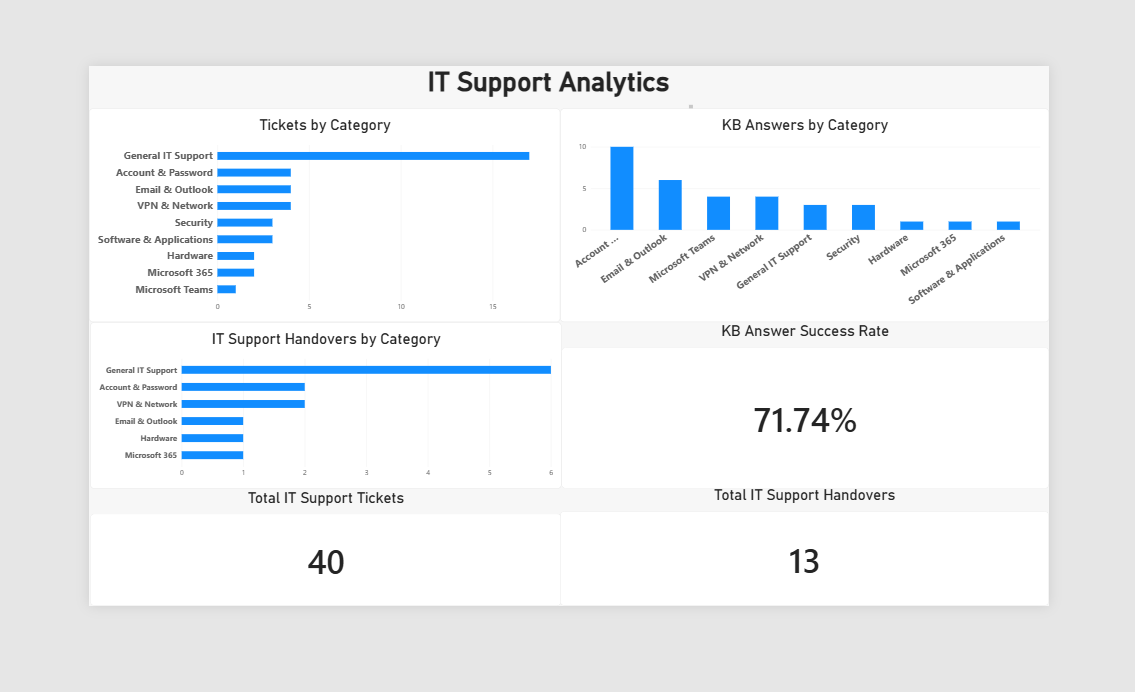

Layout of this report page (visuals, bound fields, positions):
{"tool":"powerbi","page":{"name":"Page 1","canvas":[1920,1080],"ordinal":0},"visuals":[{"type":"clusteredBarChart","title":"Tickets by Category","fields":{"Category":["cre75_itsupporttickets.Category"],"Y":["CountNonNull(cre75_itsupporttickets.Ticket Number)"]},"box":[0,85,942.5,427.5],"z":0},{"type":"cardVisual","title":"Total IT Support Tickets","fields":{"Data":["CountNonNull(cre75_itsupporttickets.Ticket Number)"]},"box":[2.5,845,942.5,235],"z":1},{"type":"cardVisual","title":"KB Answer Success Rate","fields":{"Data":["cre75_itconversationanalyticses.KB Answer Success Rate"]},"box":[945,512.5,975,332.5],"z":2},{"type":"clusteredBarChart","title":"IT Support Handovers by Category","fields":{"Category":["cre75_itconversationanalyticses.Category Name"],"Y":["CountNonNull(cre75_itconversationanalyticses.cre75_userquestion)"]},"box":[2.5,512.5,942.5,332.5],"z":3},{"type":"cardVisual","title":"Total IT Support Handovers","fields":{"Data":["CountNonNull(cre75_itconversationanalyticses.cre75_handedover)"]},"box":[942.5,840,977.5,240],"z":4},{"type":"clusteredColumnChart","title":"KB Answers by Category","fields":{"Category":["cre75_itconversationanalyticses.Category Name"],"Y":["CountNonNull(cre75_itconversationanalyticses.cre75_userquestion)"]},"box":[942.5,85,977.5,427.5],"z":5},{"type":"textbox","title":"IT Support Analytics","box":[678.3,0,530,85],"z":6}]}

Visuals, with their boxes on the page's 1920x1080 design canvas (x1, y1, x2, y2). These are canvas units, not pixel positions in the 1135x692 screenshot, which may show the page scaled, cropped or inside an application window:
"Tickets by Category" clusteredBarChart: bbox=[0, 85, 942, 512]
"Total IT Support Tickets" cardVisual: bbox=[2, 845, 945, 1080]
"KB Answer Success Rate" cardVisual: bbox=[945, 512, 1920, 845]
"IT Support Handovers by Category" clusteredBarChart: bbox=[2, 512, 945, 845]
"Total IT Support Handovers" cardVisual: bbox=[942, 840, 1920, 1080]
"KB Answers by Category" clusteredColumnChart: bbox=[942, 85, 1920, 512]
"IT Support Analytics" textbox: bbox=[678, 0, 1208, 85]
